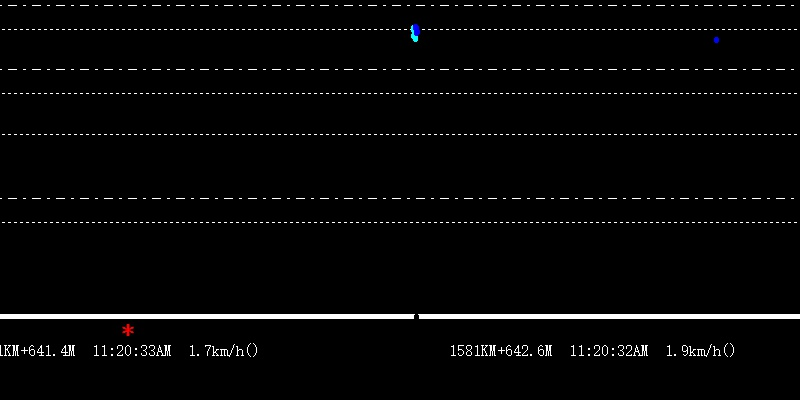face_s: (411, 20, 420, 43)
star: (119, 323, 136, 339)
